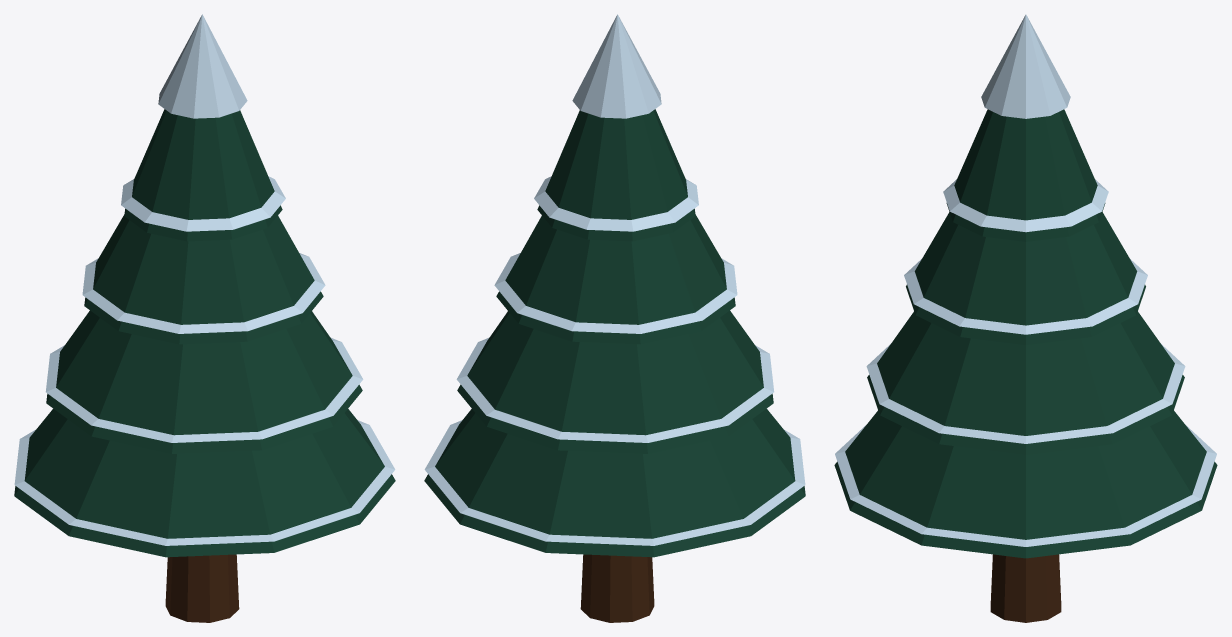
The model's file is snow-pine.obj.
3 renders of one model, left to right at view 1: azimuth 30°, elevation 25°; view 2: azimuth 150°, elevation 25°; view 3: azimuth 270°, elevation 25°, orthographic.
Size of the model in its own units: 1.84 by 3.18 by 1.86.
